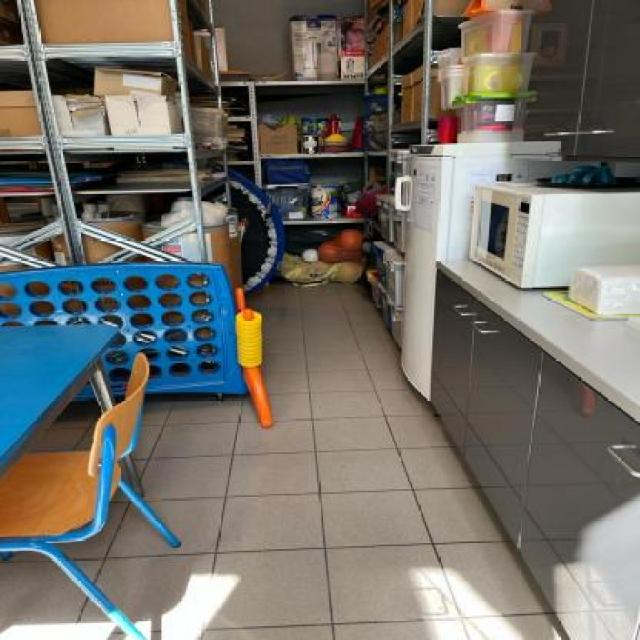Floor: (49, 282, 571, 640), (0, 550, 133, 640), (28, 398, 102, 450)
